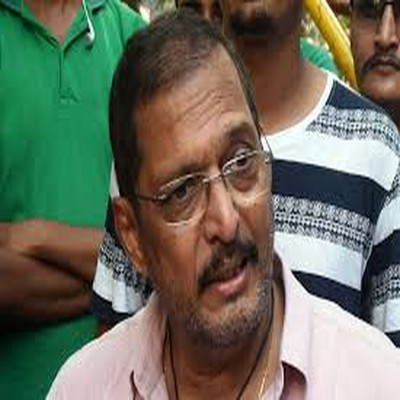eywear: (128, 131, 292, 220)
